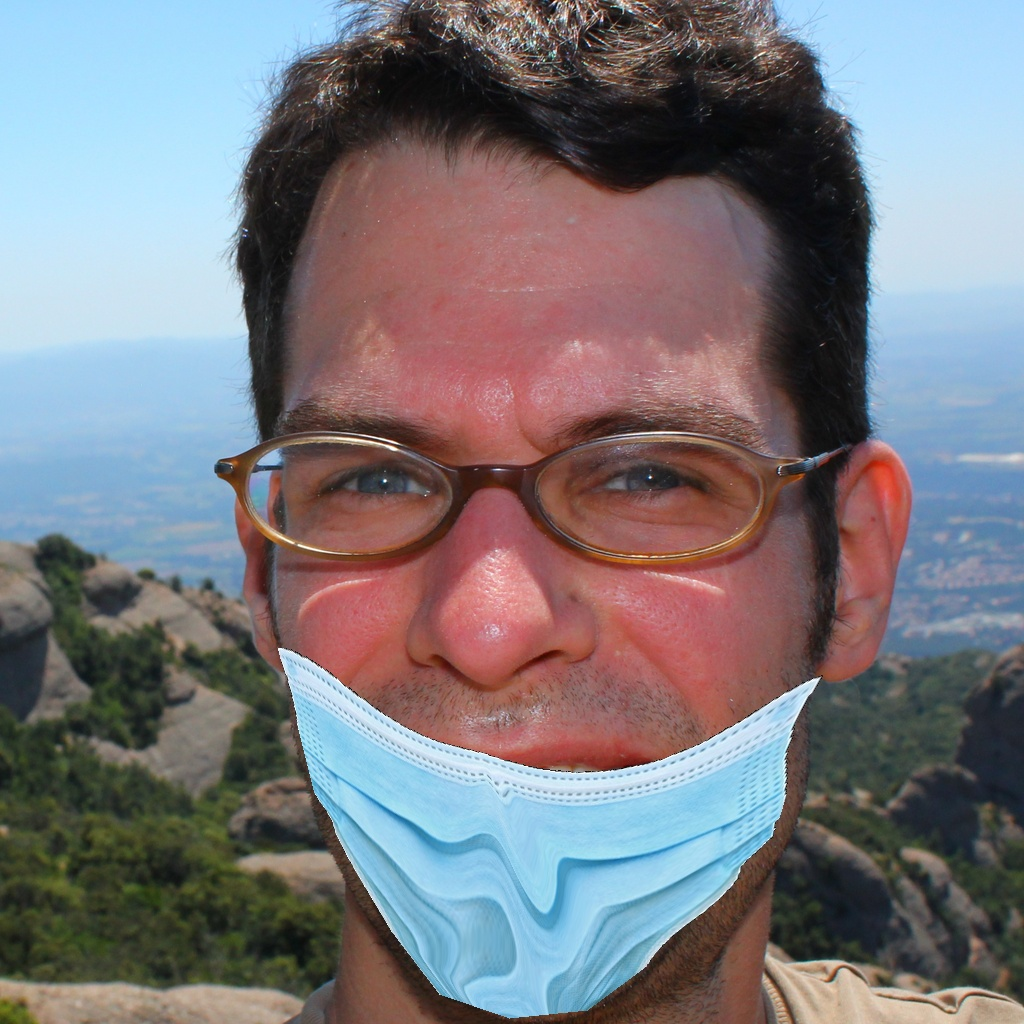mask_weared_incorrect: (263, 394, 810, 1015)
